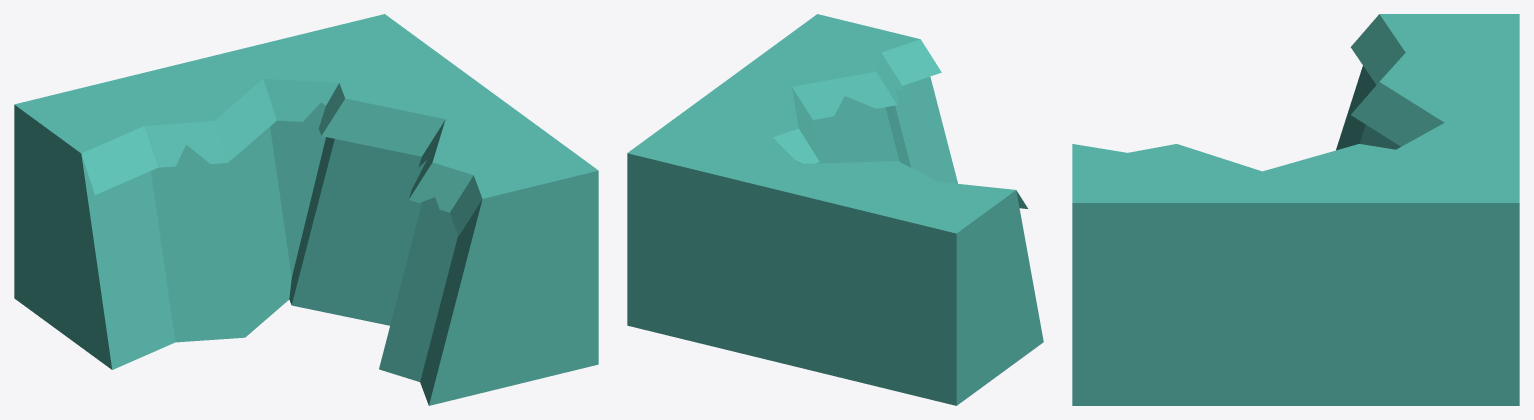
Rendered from cliffGrey_halfCornerInner.fbx.
3 renders of one model, left to right at view 1: azimuth 30°, elevation 25°; view 2: azimuth 150°, elevation 25°; view 3: azimuth 270°, elevation 25°, orthographic. The views are drawn at different scales.
Parts seen in each view (by area): view 1: cliffGrey_halfCornerInner; view 2: cliffGrey_halfCornerInner; view 3: cliffGrey_halfCornerInner.
Part boxes in pixels (x1,y1,x2,y2): cliffGrey_halfCornerInner: [14, 14, 598, 405]; cliffGrey_halfCornerInner: [627, 14, 1043, 405]; cliffGrey_halfCornerInner: [1072, 14, 1519, 405].
Bounding box in the file's own units: 10 × 5 × 10.
